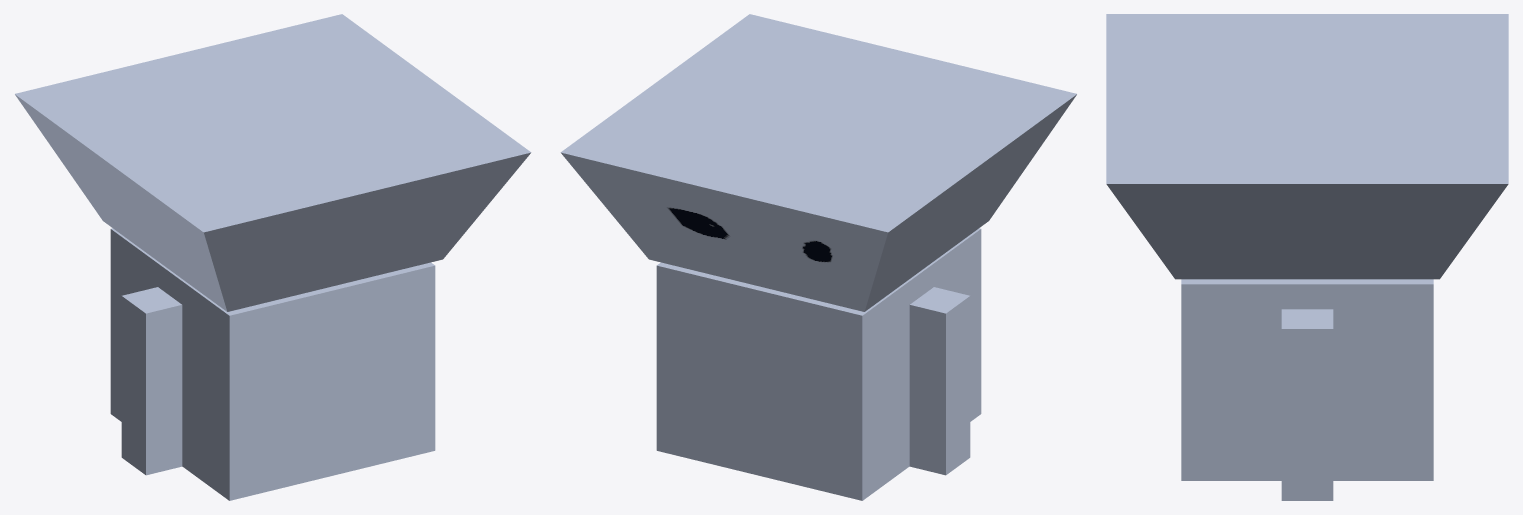
The model's file is playerModel.obj.
3 views of the same model, side by side, from view 1: azimuth 30°, elevation 25°; view 2: azimuth 150°, elevation 25°; view 3: azimuth 270°, elevation 25° (orthographic). The views are drawn at different scales.
Visible parts, largest first — view 1: 立方体.003; view 2: 立方体.003; view 3: 立方体.003.
Boxes of the visible parts, x1=… form: 立方体.003: x1=15, y1=14, x2=531, y2=500; 立方体.003: x1=560, y1=14, x2=1076, y2=500; 立方体.003: x1=1106, y1=14, x2=1508, y2=500.
Size of the model in its own units: 2 by 1.8 by 2.
1 material, 1 textured.
